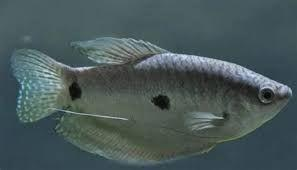Gourami: (12, 37, 293, 166)
